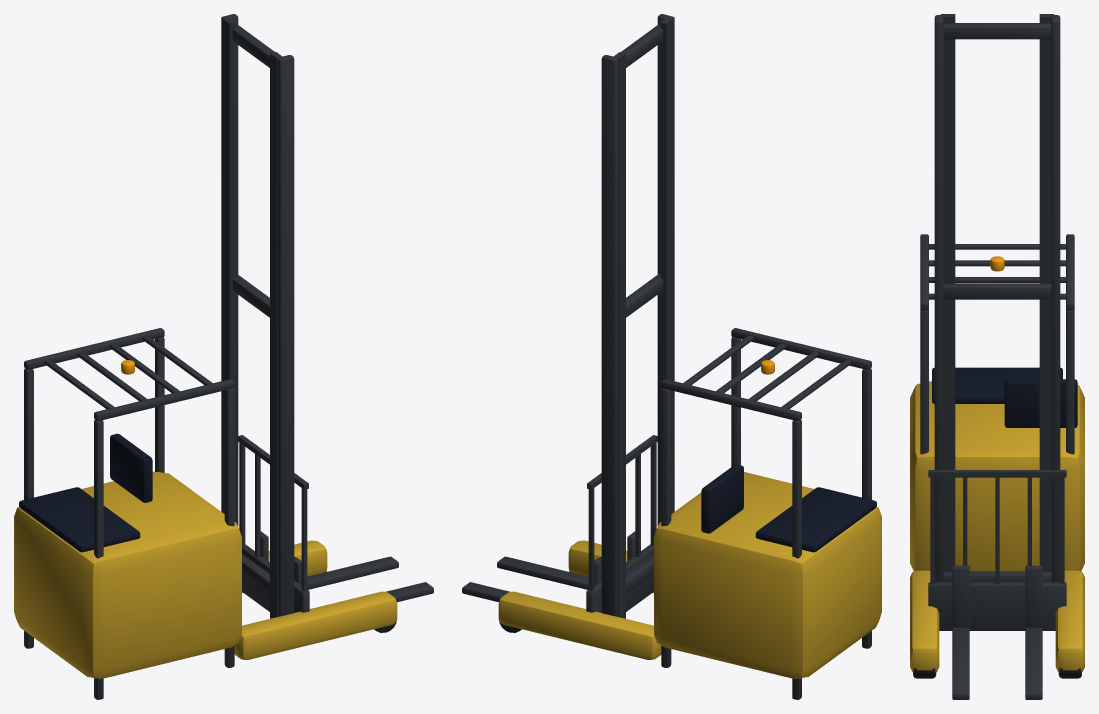
Rendered from reach.glb.
The picture shows the model from 3 angles, left to right: view 1: azimuth 30°, elevation 25°; view 2: azimuth 150°, elevation 25°; view 3: azimuth 270°, elevation 25°; orthographic projection. The views are drawn at different scales.
Parts seen in each view (by area): view 1: body, lift; view 2: body, lift; view 3: body, lift.
Boxes of the visible parts, bbox=[...] form: body: bbox=[14, 14, 397, 699]; lift: bbox=[238, 435, 433, 612]; body: bbox=[498, 14, 881, 699]; lift: bbox=[462, 435, 657, 612]; body: bbox=[910, 14, 1084, 678]; lift: bbox=[928, 470, 1066, 699].
Size of the model in its own units: 3 by 4.65 by 1.2.
